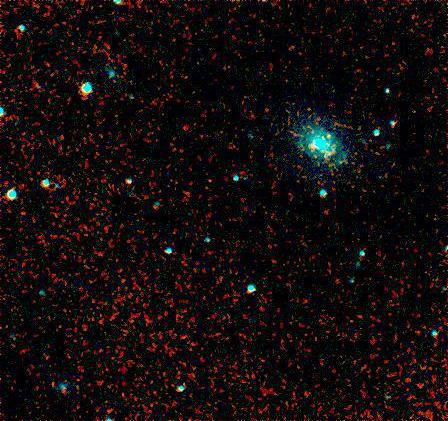star: (314, 121, 344, 151)
